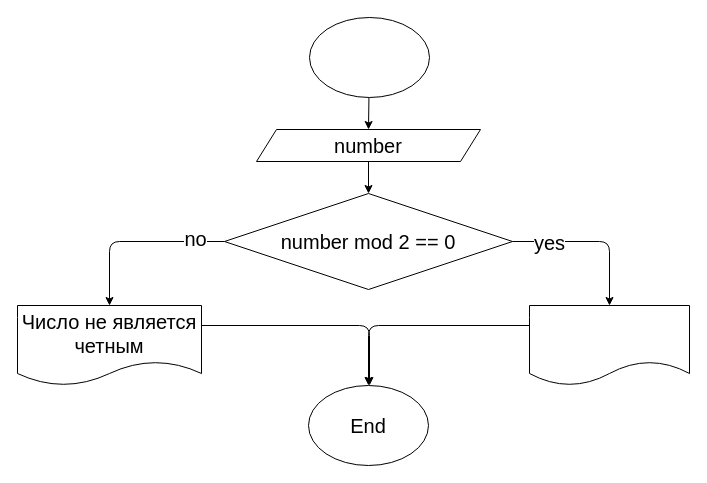
Image size: 707x483. Some labels were removed from this diagram. The box of each missing label's shape, as (x1, y1, x2, y2) in pixels:
Start: (308, 16, 430, 98)
Число является четным: (528, 304, 690, 386)
